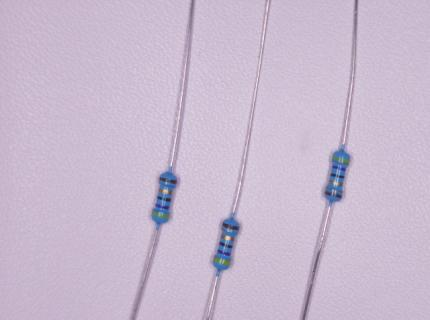Black band: (330, 173, 345, 180), (219, 242, 233, 249), (157, 196, 171, 202)
Brown band: (159, 176, 176, 185), (324, 191, 342, 199), (222, 223, 239, 231)
Gold band: (158, 187, 173, 195), (221, 234, 235, 242), (329, 180, 343, 187)
Violet band: (217, 249, 231, 256), (156, 204, 170, 210), (332, 166, 346, 171)
Yellow band: (213, 256, 230, 265), (152, 212, 169, 219), (332, 157, 349, 164)
